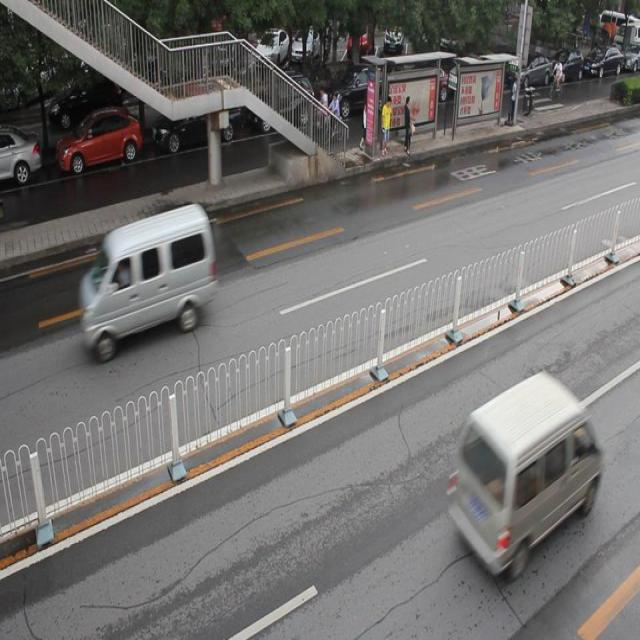car: (57, 108, 143, 172), (154, 99, 242, 149), (244, 80, 317, 136), (323, 67, 395, 121), (0, 127, 44, 187)
truck: (447, 369, 602, 580), (78, 200, 214, 360)
